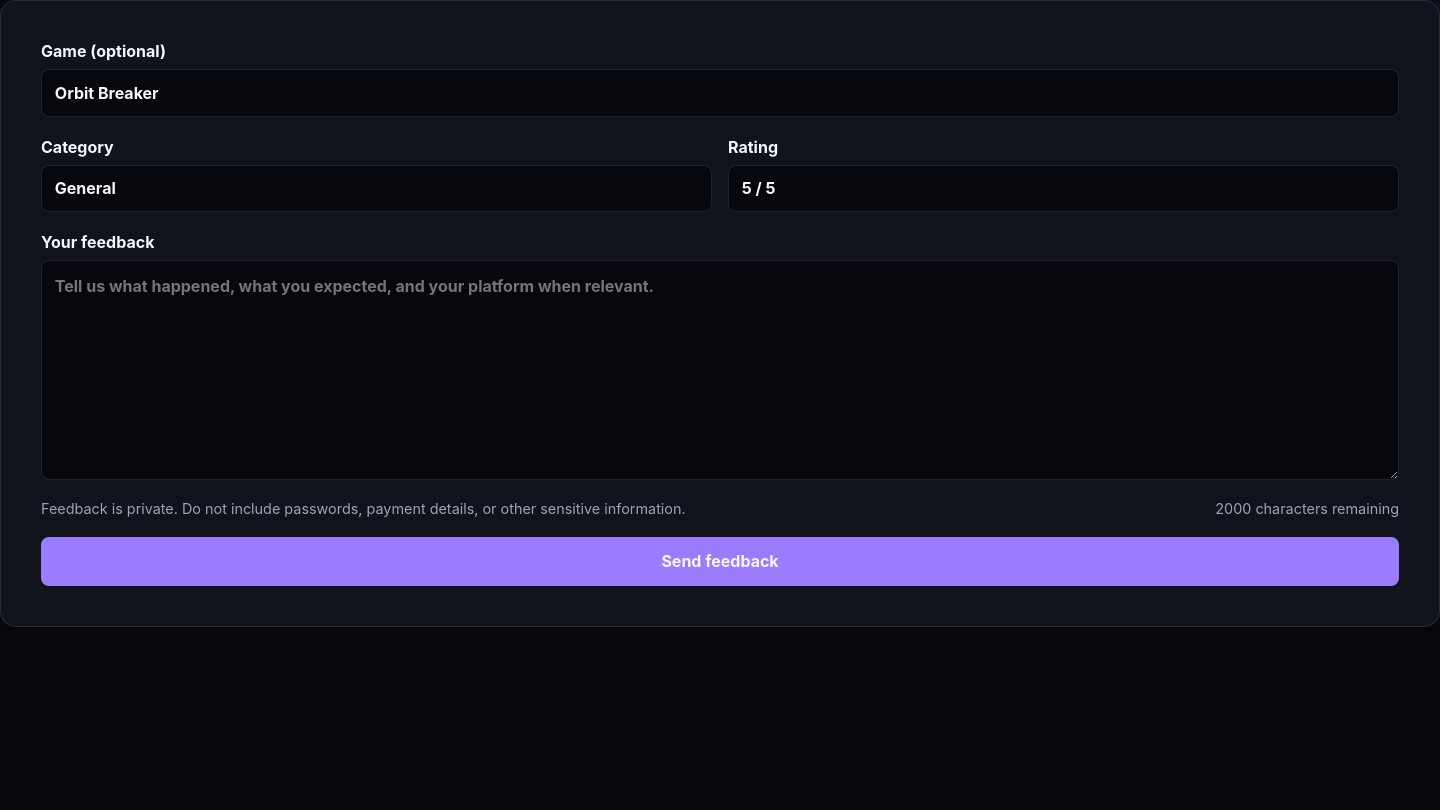
Test: FeedbackForm › preselects a game and provides live message-length guidance
The width and height of the screenshot is (1440, 810).
expect the dropdown labelled "Game (optional)" shows "Orbit Breaker": met, box [41, 69, 1399, 117]
Replace the text in the text box labelled "Your feedback" with "A clear description of my issue." at (720, 370), box [41, 260, 1399, 480]
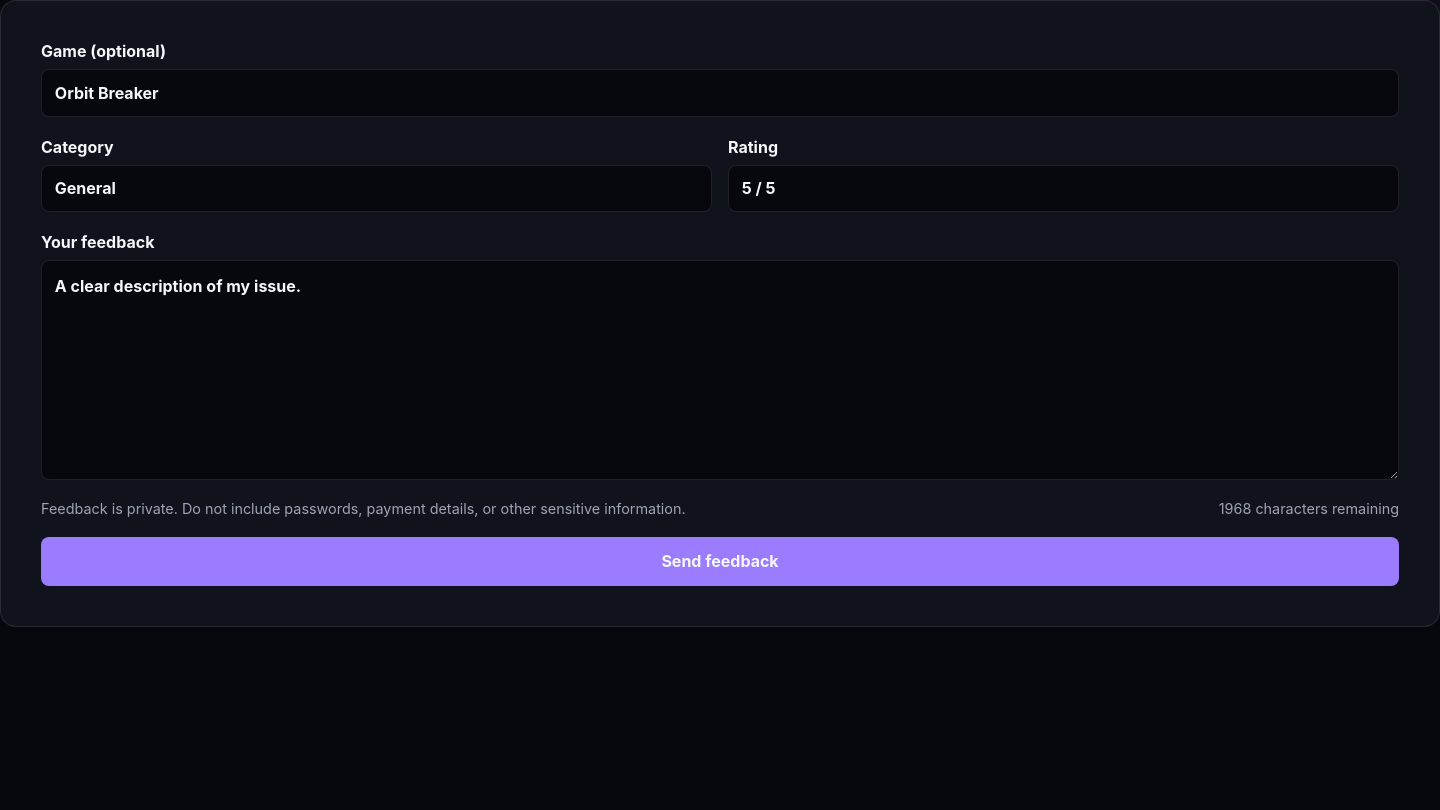
expect the text "1968 characters remaining" is shown: met, box [1219, 500, 1399, 517]
